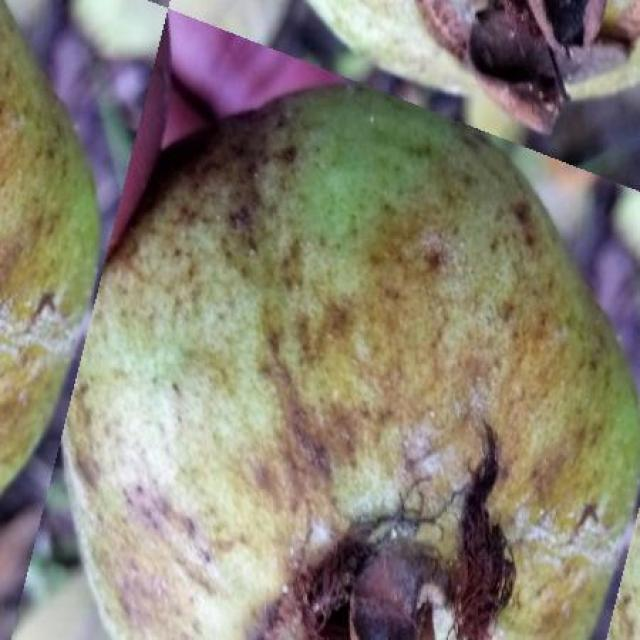Styler and Root: (65, 86, 638, 640), (1, 0, 99, 493)
